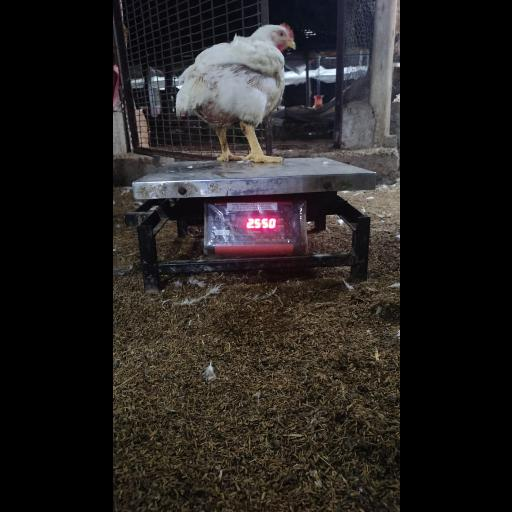chick: (172, 24, 297, 164)
